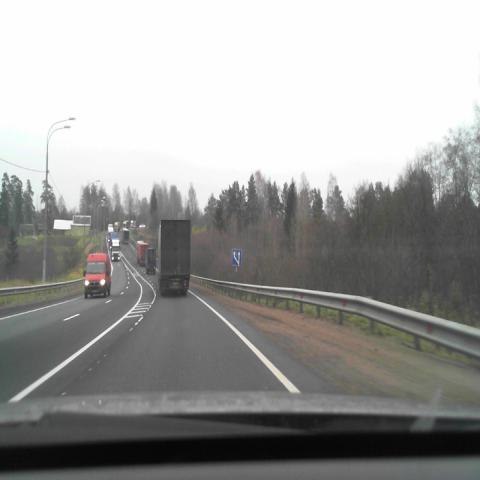5_15_3: (232, 249, 242, 266)
